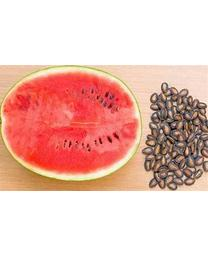watermelon: (1, 66, 142, 183)
